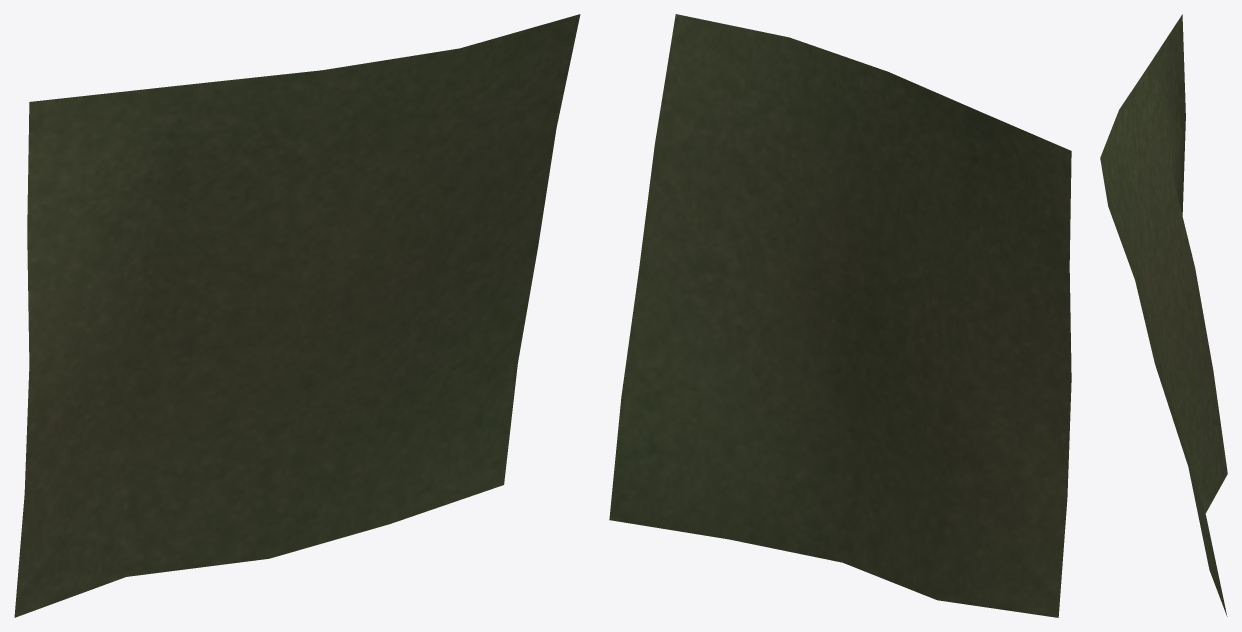
Rendered from terrain_far_04_01.obj.
The picture shows the model from 3 angles, left to right: view 1: azimuth 30°, elevation 25°; view 2: azimuth 150°, elevation 25°; view 3: azimuth 270°, elevation 25°; orthographic projection. The views are drawn at different scales.
Visible parts, largest first — view 1: terrain_far_04_01; view 2: terrain_far_04_01; view 3: terrain_far_04_01.
Part boxes in pixels (x1,y1,x2,y2): terrain_far_04_01: (14, 14, 580, 617); terrain_far_04_01: (609, 14, 1071, 617); terrain_far_04_01: (1100, 14, 1227, 616).
Size of the model in its own units: 288 by 288 by 80.9.
1 material, 1 textured.
